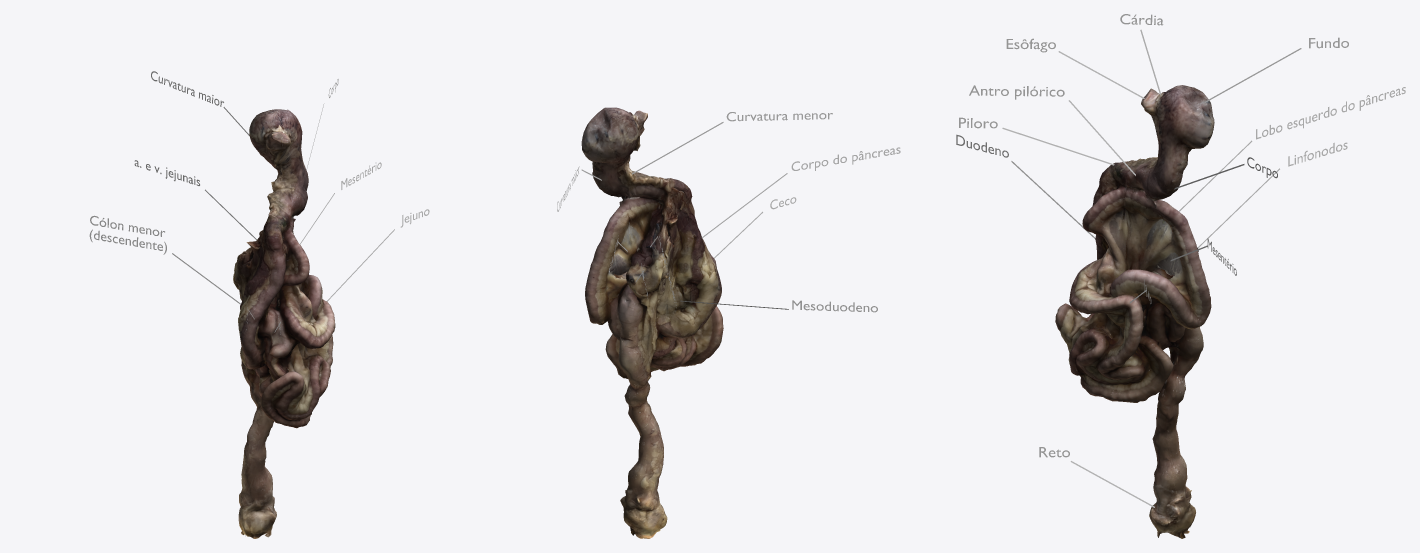
The model's file is Gastrointestinal.glb.
3 views of the same model, side by side, from view 1: azimuth 30°, elevation 25°; view 2: azimuth 150°, elevation 25°; view 3: azimuth 270°, elevation 25° (orthographic). The views are drawn at different scales.
Visible parts, largest first — view 1: 3DModel_LowPoly, Texto.061; view 2: 3DModel_LowPoly; view 3: 3DModel_LowPoly, Texto.011.
Boxes of the visible parts, x1=… form: 3DModel_LowPoly: x1=233, y1=109, x2=335, y2=538; Texto.061: x1=89, y1=215, x2=166, y2=254; 3DModel_LowPoly: x1=581, y1=107, x2=723, y2=538; 3DModel_LowPoly: x1=1055, y1=85, x2=1214, y2=538; Texto.011: x1=1256, y1=87, x2=1405, y2=139.
Size of the model in its own units: 2.83 by 3.83 by 3.12.
1 material, 1 textured.
